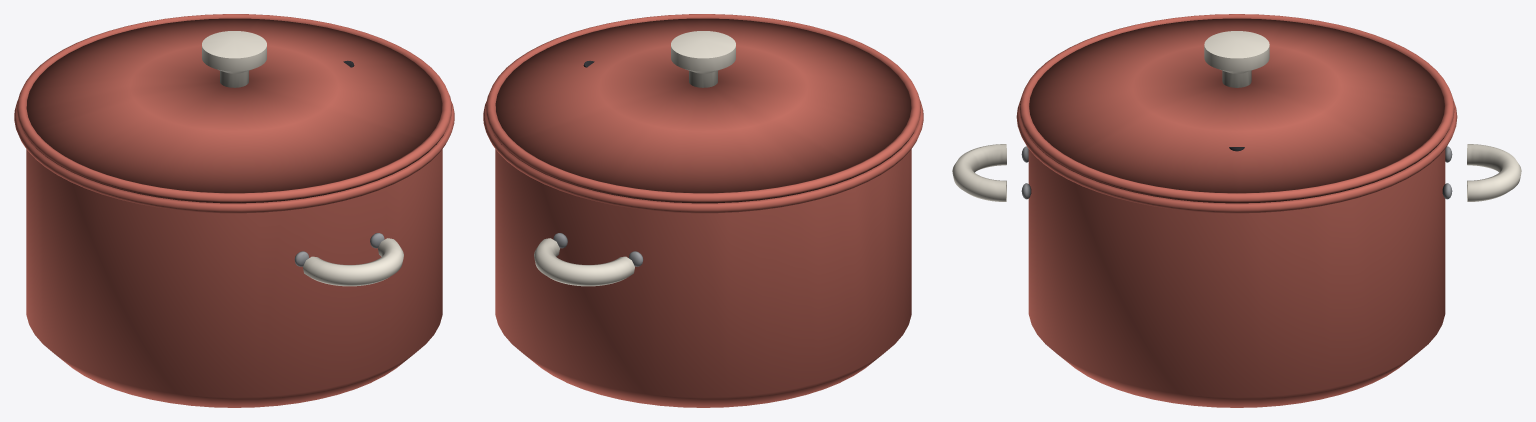
File: kit_pot.glb
3 renders of one model, left to right at view 1: azimuth 30°, elevation 25°; view 2: azimuth 150°, elevation 25°; view 3: azimuth 270°, elevation 25°, orthographic.
Parts seen in each view (by area): view 1: PART, LID; view 2: PART, LID; view 3: PART, LID.
Part boxes in pixels (x1,y1,x2,y2): PART: (14,100,454,407); LID: (17,14,451,203); PART: (483,100,923,407); LID: (486,14,920,203); PART: (952,101,1521,407); LID: (1019,14,1454,203).
Bounding box in the file's own units: 0.243 × 0.176 × 0.3138.
